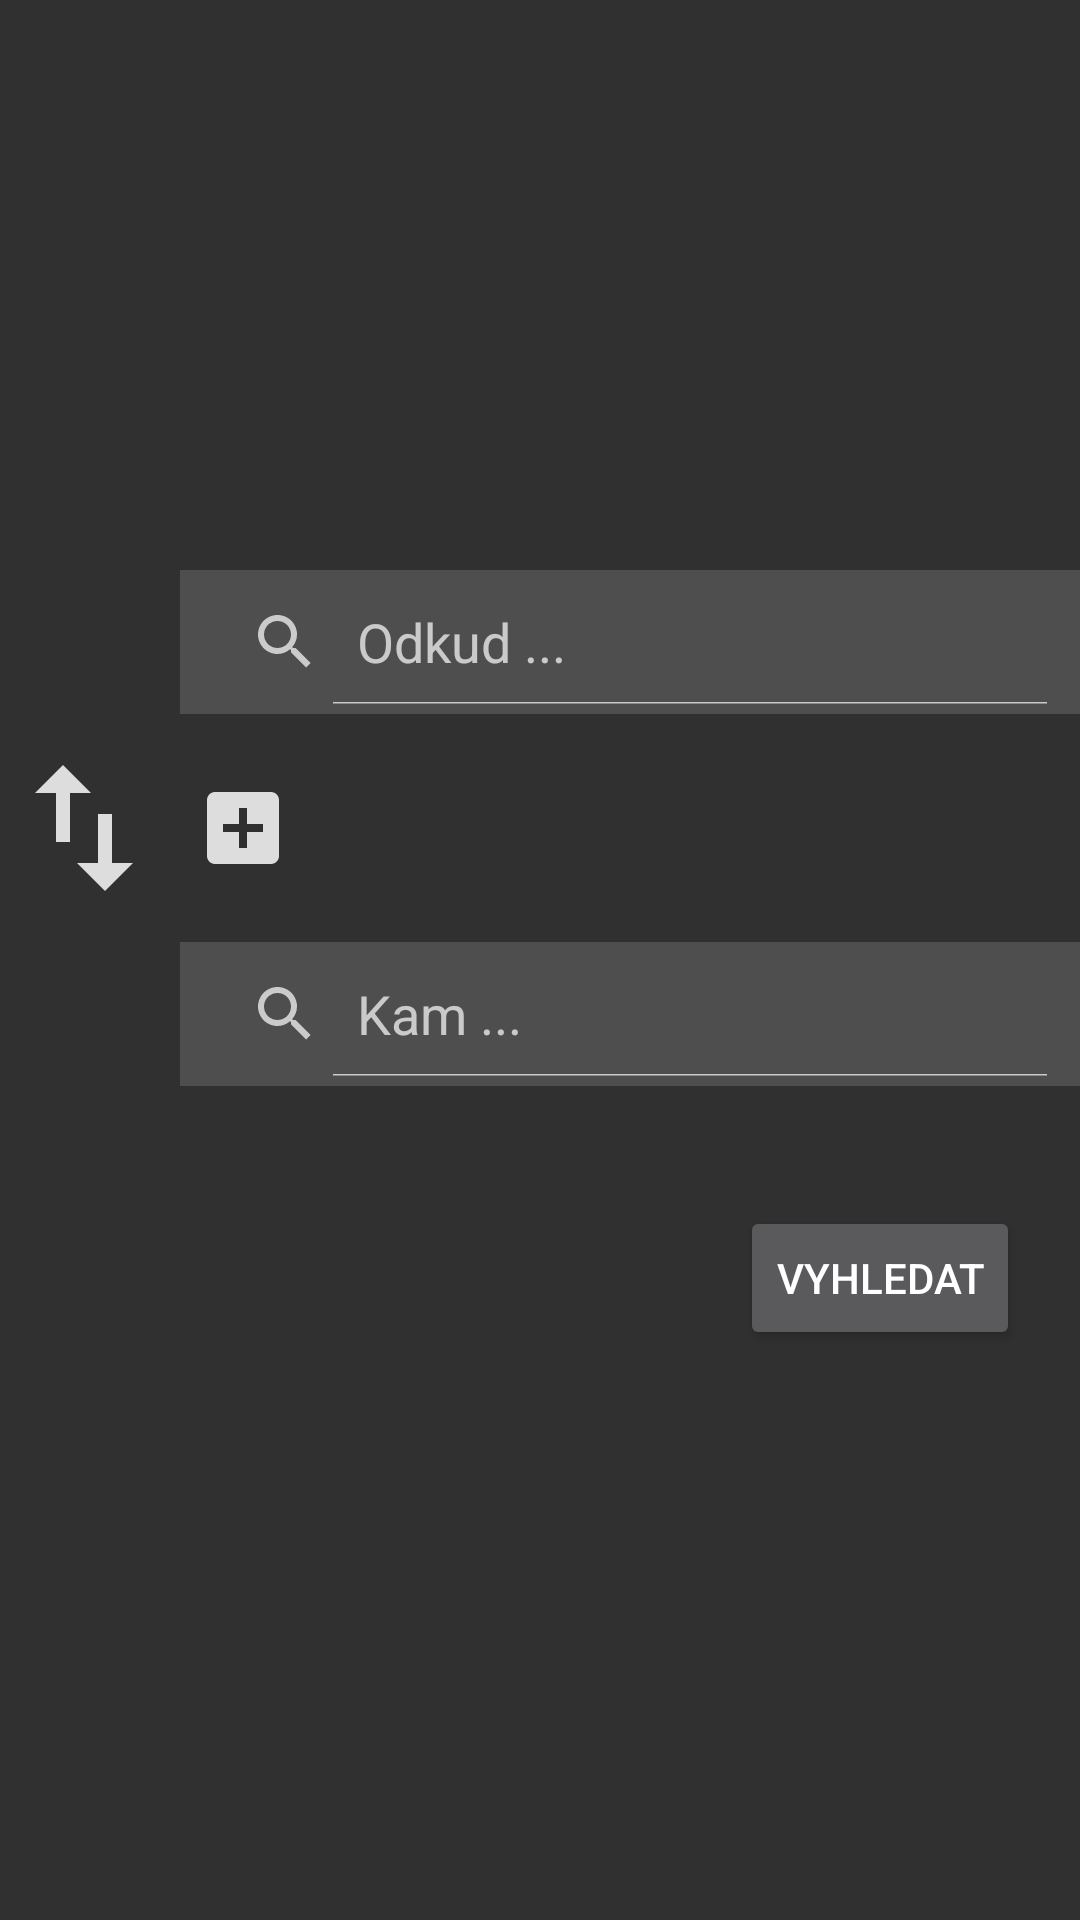

Named icons in this screenshot (1080 x 1920) and their centers, (x,y):
add box: (243,828)
swap vert: (84,828)
